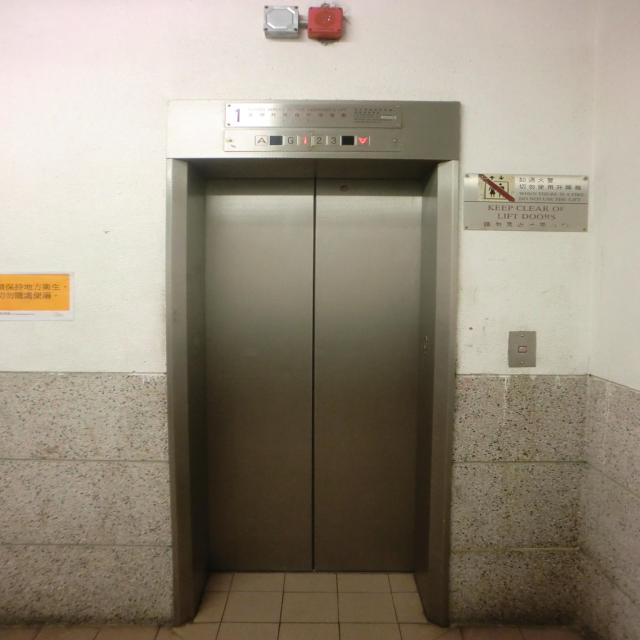1: (298, 134, 312, 145)
2: (312, 134, 326, 144)
3: (326, 134, 341, 145)
G: (283, 135, 298, 145)
down: (356, 135, 370, 145)
empty: (341, 135, 355, 145), (269, 135, 282, 145)
up: (254, 134, 269, 144), (517, 345, 527, 353)
